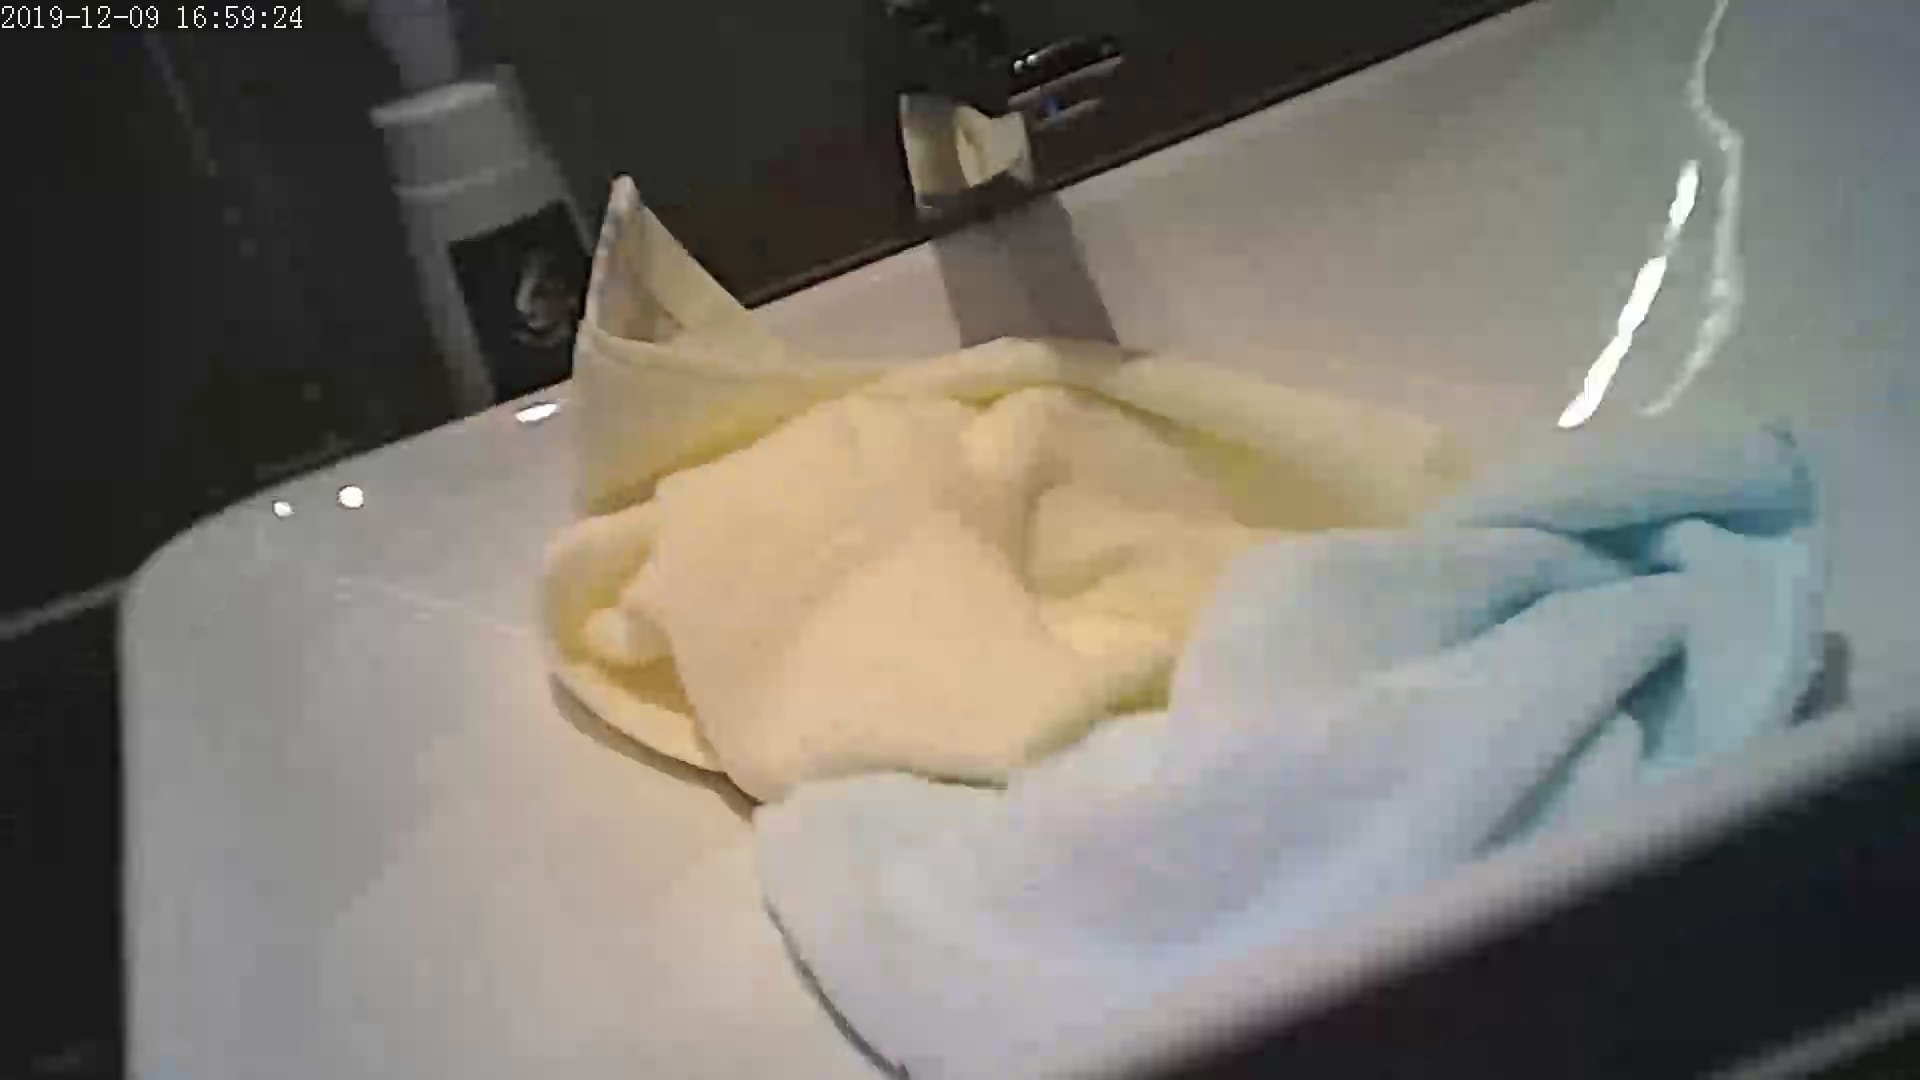bluecloth: (1029, 537, 1808, 978)
sink: (127, 59, 1904, 1075)
yellowcloth: (574, 268, 1170, 724)
